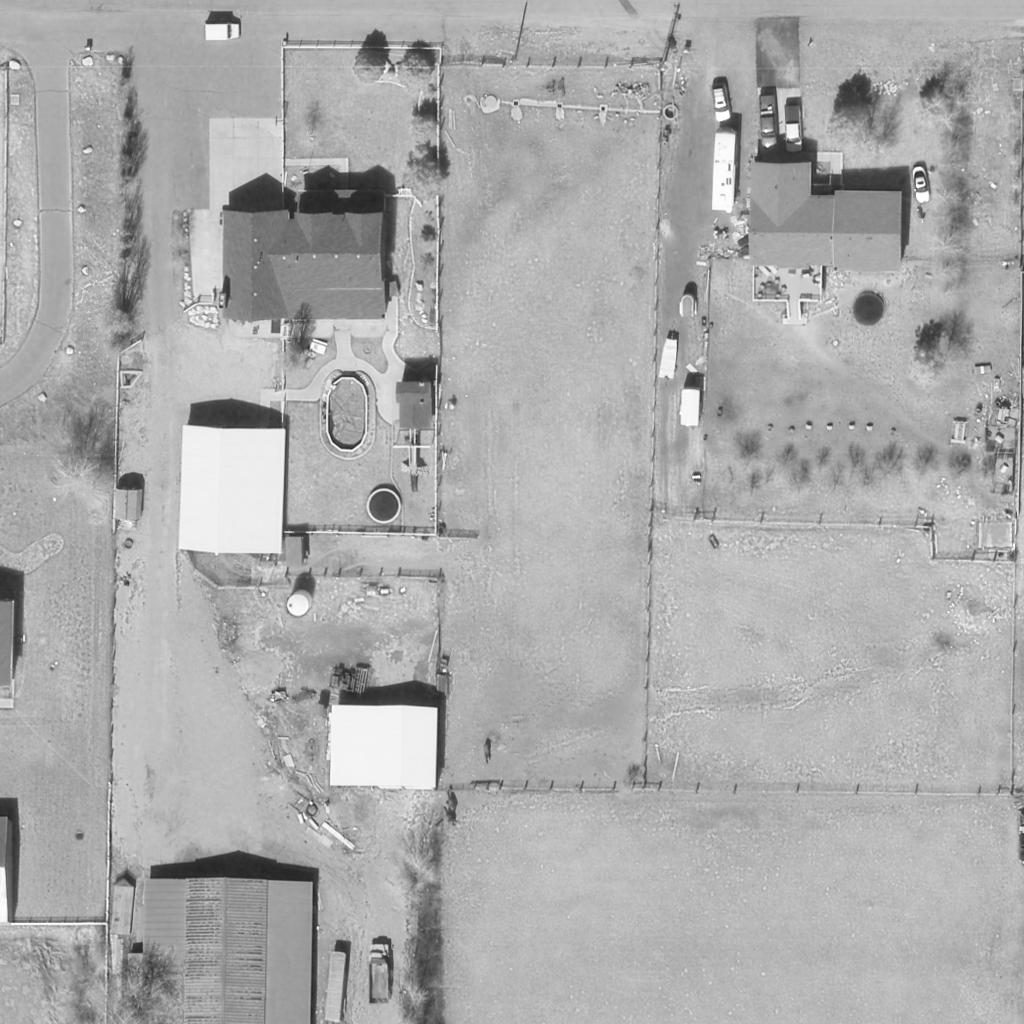vehicle: (713, 131, 737, 211), (368, 943, 392, 1005), (758, 95, 782, 153), (781, 105, 801, 155), (708, 82, 734, 120), (911, 166, 931, 204), (203, 23, 241, 41)
